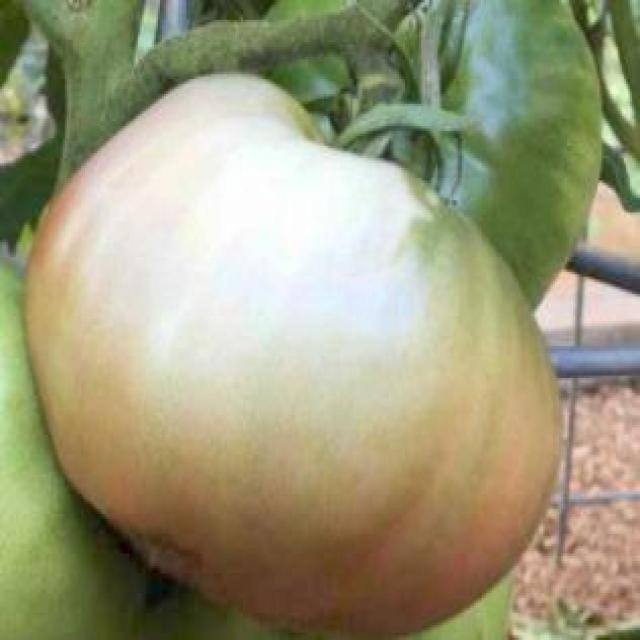Sunscald Fruit: (68, 55, 288, 269)
